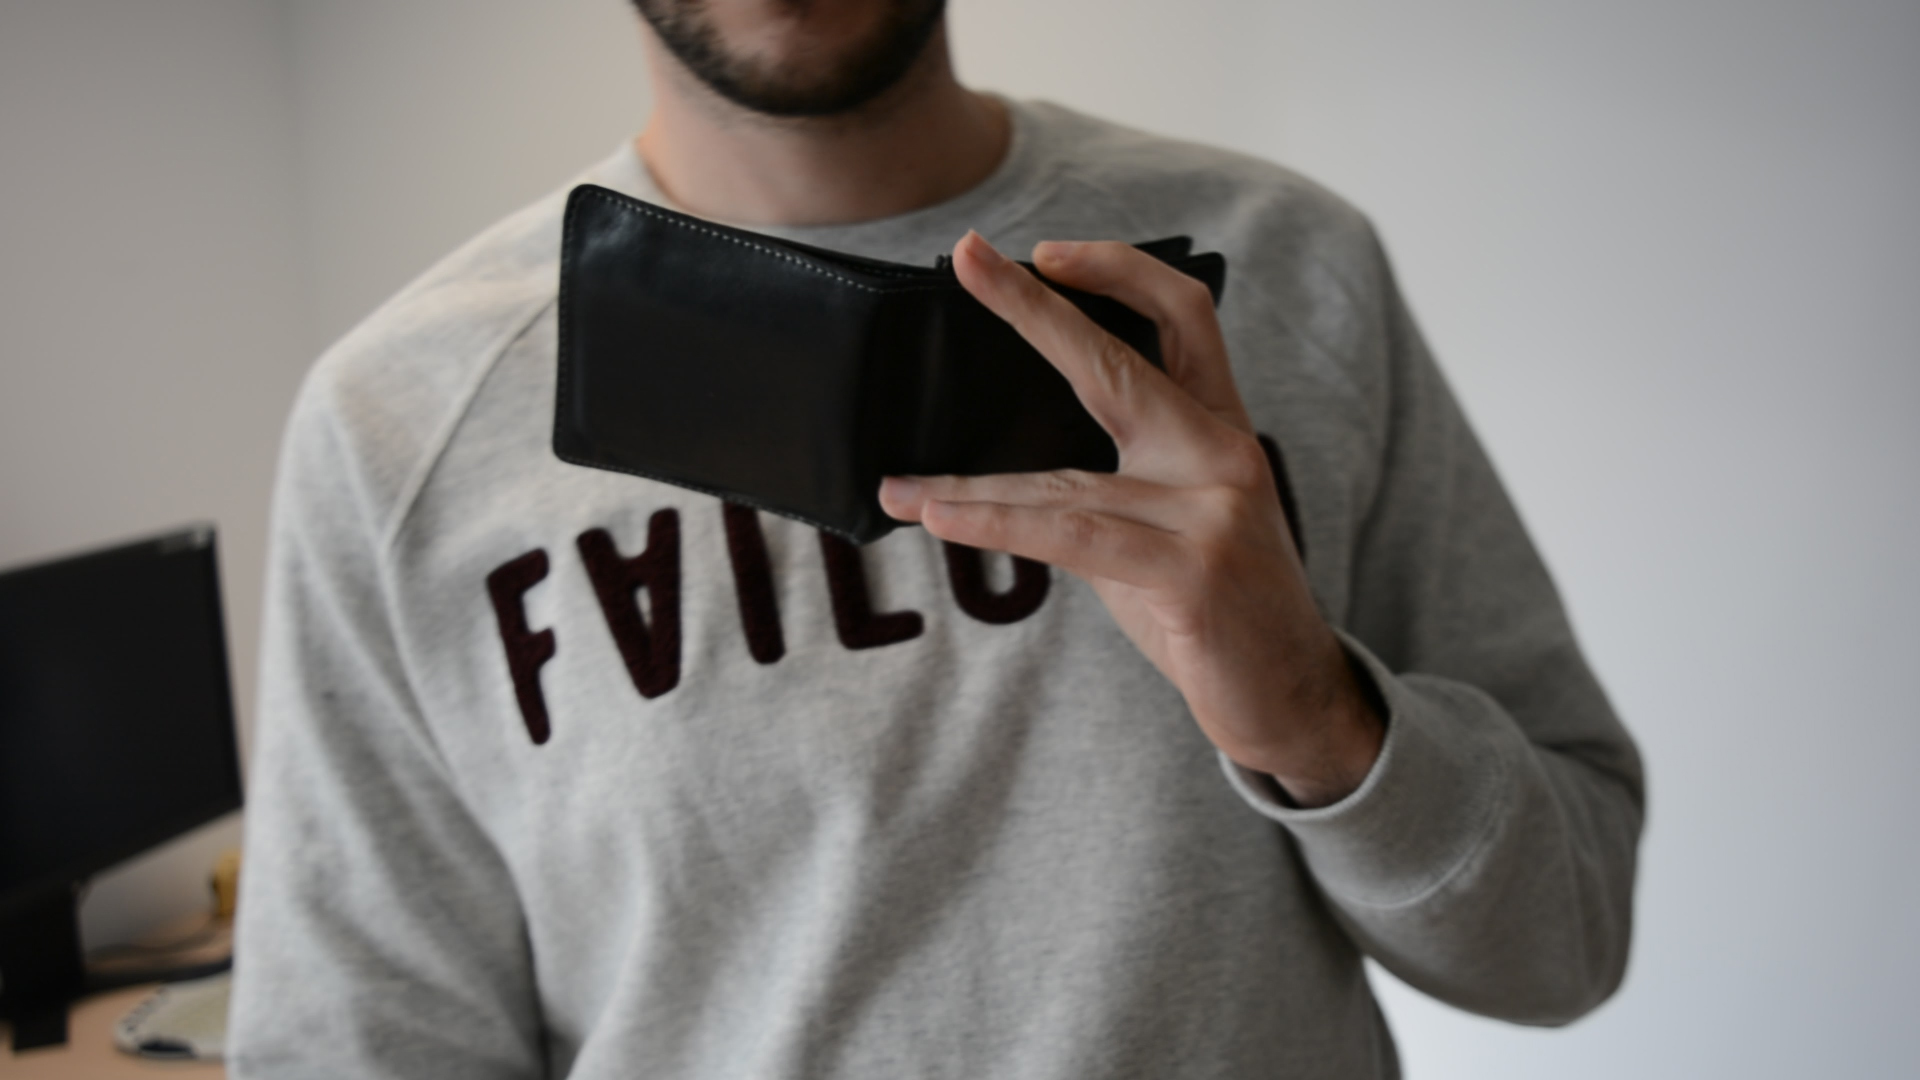monedero: (549, 182, 1230, 550)
